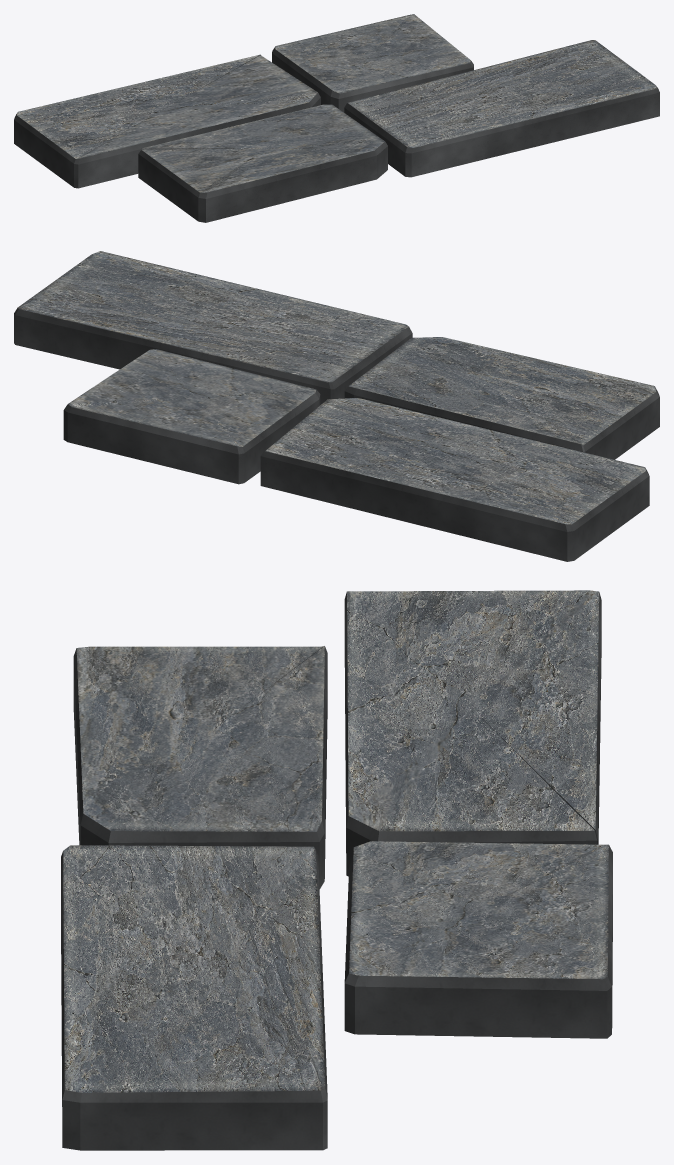
The model's file is flagstone_samples.glb.
3 views of the same model, one above another, from view 1: azimuth 30°, elevation 25°; view 2: azimuth 150°, elevation 25°; view 3: azimuth 270°, elevation 25° (orthographic). The views are drawn at different scales.
Parts seen in each view (by area): view 1: Actual slab sample 1, Actual slab sample 2, Actual slab sample 0, Actual slab sample 3; view 2: Actual slab sample 2, Actual slab sample 1, Actual slab sample 0, Actual slab sample 3; view 3: Actual slab sample 1, Actual slab sample 2, Actual slab sample 3, Actual slab sample 0.
Boxes of the visible parts, <box> form: Actual slab sample 1: <box>344,40,659,177</box>; Actual slab sample 2: <box>14,54,320,188</box>; Actual slab sample 0: <box>138,104,387,222</box>; Actual slab sample 3: <box>272,14,473,112</box>; Actual slab sample 2: <box>260,398,649,561</box>; Actual slab sample 1: <box>14,251,412,404</box>; Actual slab sample 0: <box>344,337,659,459</box>; Actual slab sample 3: <box>63,349,320,484</box>; Actual slab sample 1: <box>61,845,327,1150</box>; Actual slab sample 2: <box>344,590,601,876</box>; Actual slab sample 3: <box>344,841,612,1038</box>; Actual slab sample 0: <box>73,646,327,888</box>.
Bounding box in the file's own units: 2.83 × 0.1615 × 1.31.
2 materials, 2 textured.
